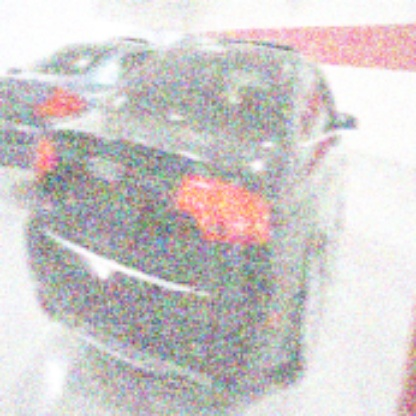Vehicle: (23, 31, 357, 396)
